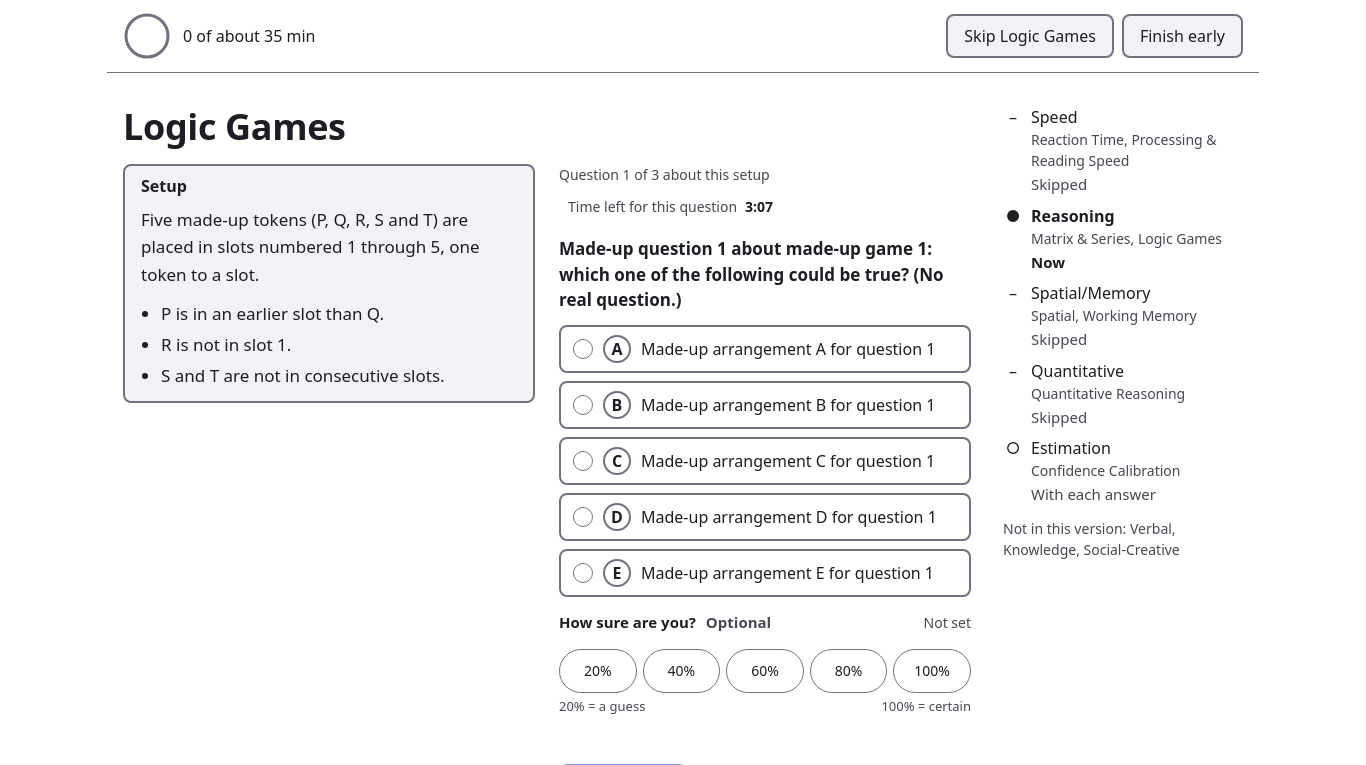
Test case: the remaining families, served › Logic Games: the setup beside its questions as an opening and a list of rules, kept in place across the game, "Question 2 of 3 about this setup", and the option
The width and height of the screenshot is (1366, 765).
expect the heading "Setup" is shown: met, box [141,174,187,198]
expect the text "Question 1 of 3 about this setup" is shown: met, box [559,165,770,184]
What coordinates should you click on to do the following:
click the radio button labelled "B Made-up arrangement B for question 1"
I would click on:
 (583, 405)
Its box is [573,395,593,415].
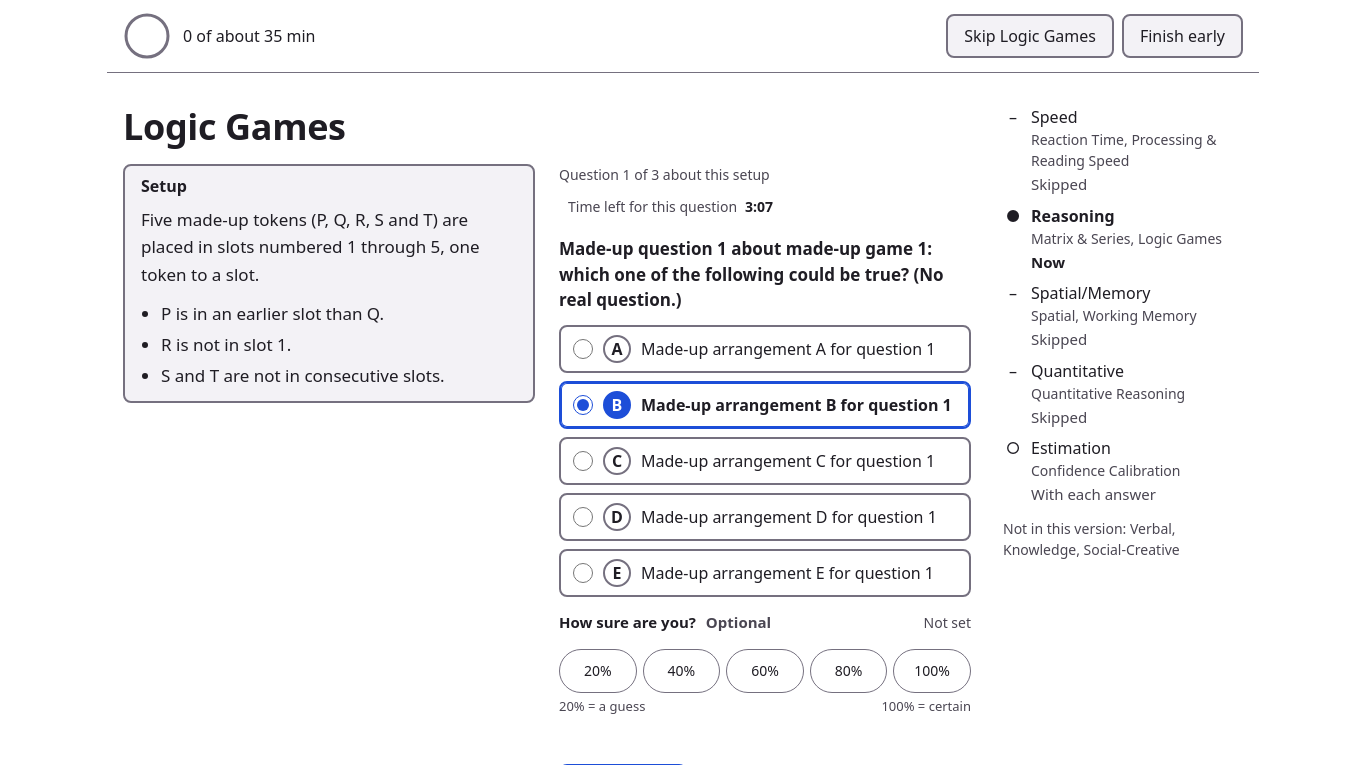
What coordinates should you click on to do the following:
click the radio button labelled "100%"
I would click on:
 (932, 671)
Its box is [893,649,971,693].
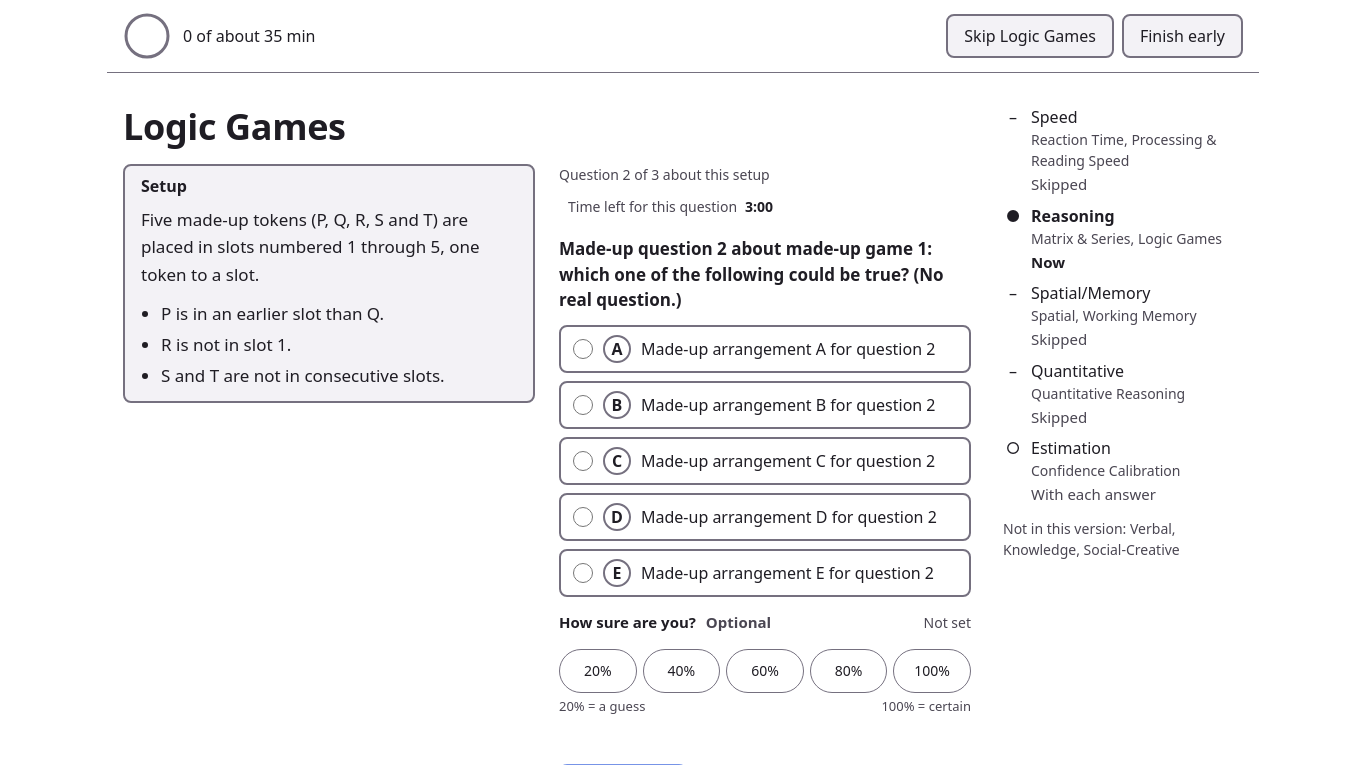
expect the text "Question 2 of 3 about this setup" is shown: met, box [559,165,770,184]
What coordinates should you click on to do the following:
click the radio button labelled "B Made-up arrangement B for question 2"
I would click on:
 (583, 405)
Its box is [573,395,593,415].
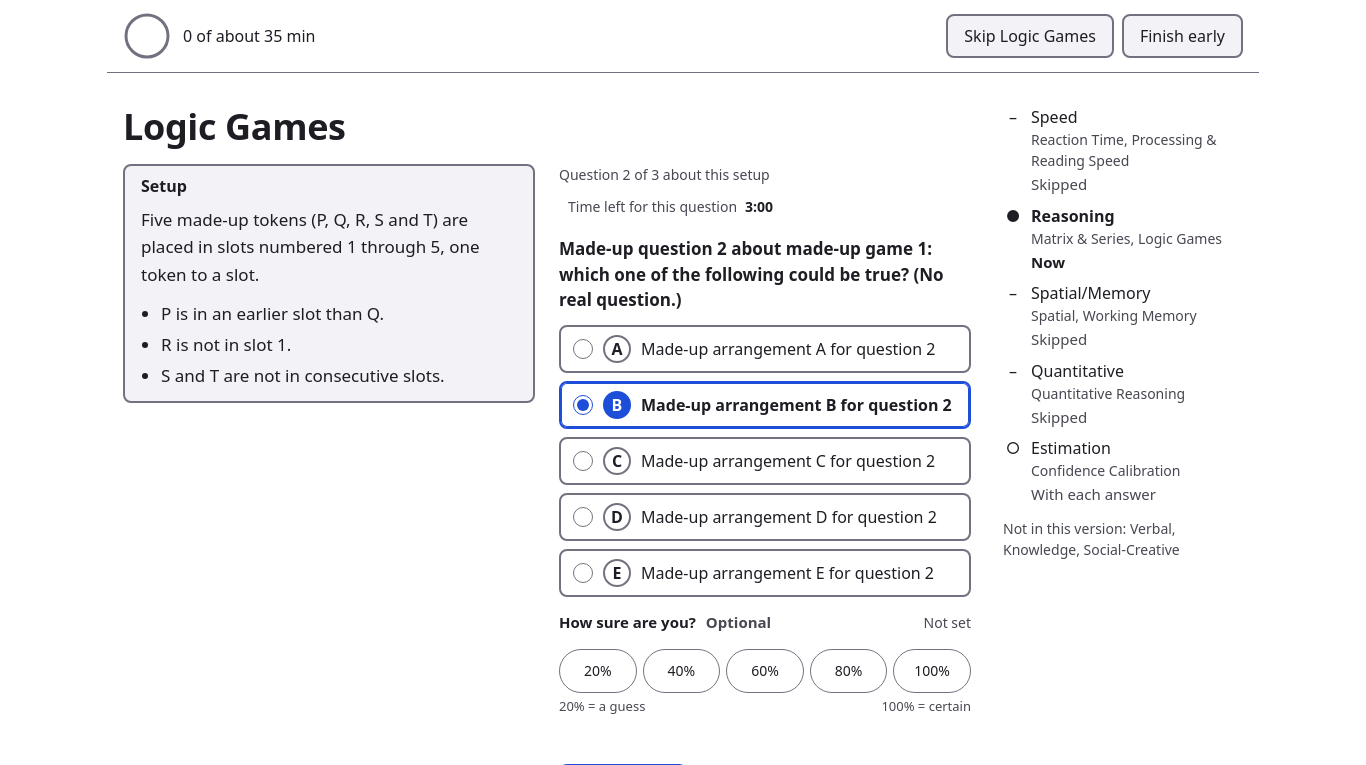
What coordinates should you click on to do the following:
click the radio button labelled "100%"
I would click on:
 (932, 671)
Its box is [893,649,971,693].
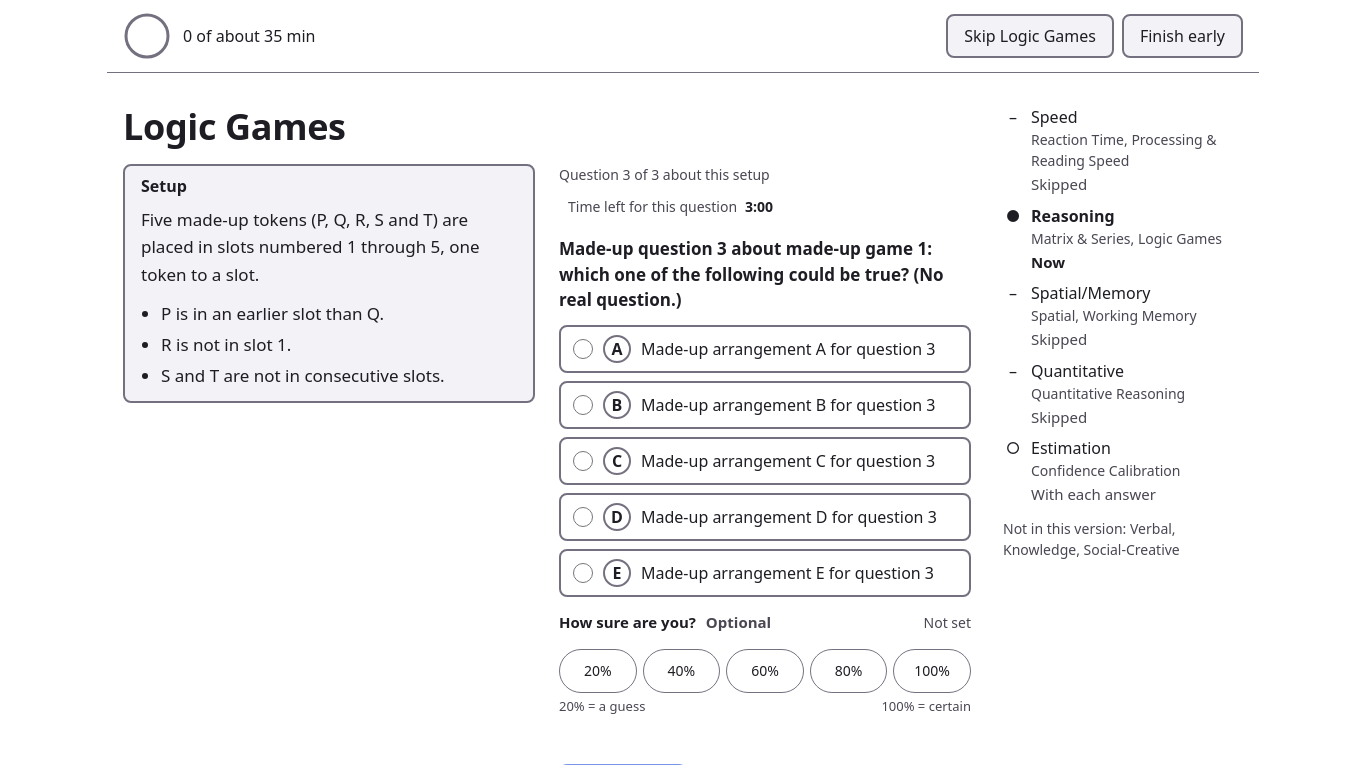
What coordinates should you click on to do the following:
click the radio button labelled "B Made-up arrangement B for question 3"
I would click on:
 (583, 405)
Its box is [573,395,593,415].
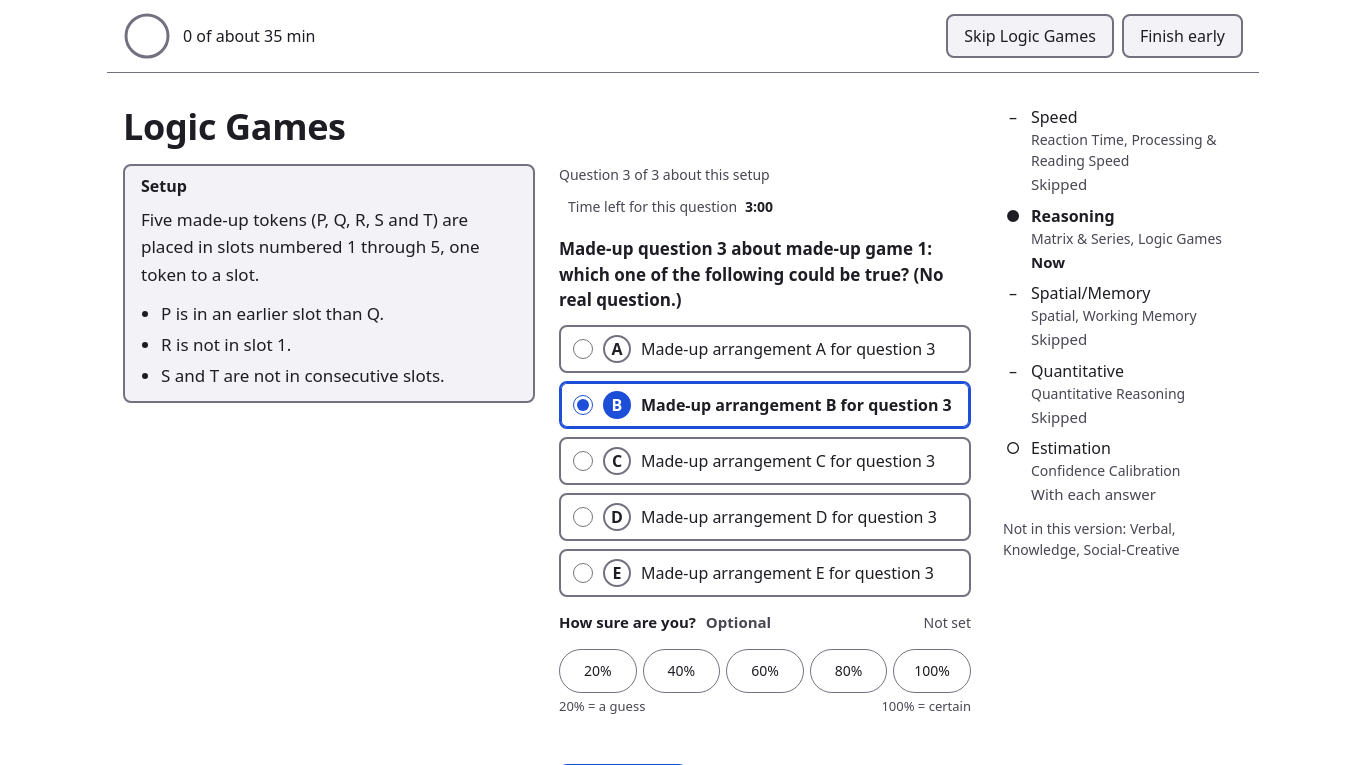
What coordinates should you click on to do the following:
click the radio button labelled "100%"
I would click on:
 (932, 671)
Its box is [893,649,971,693].
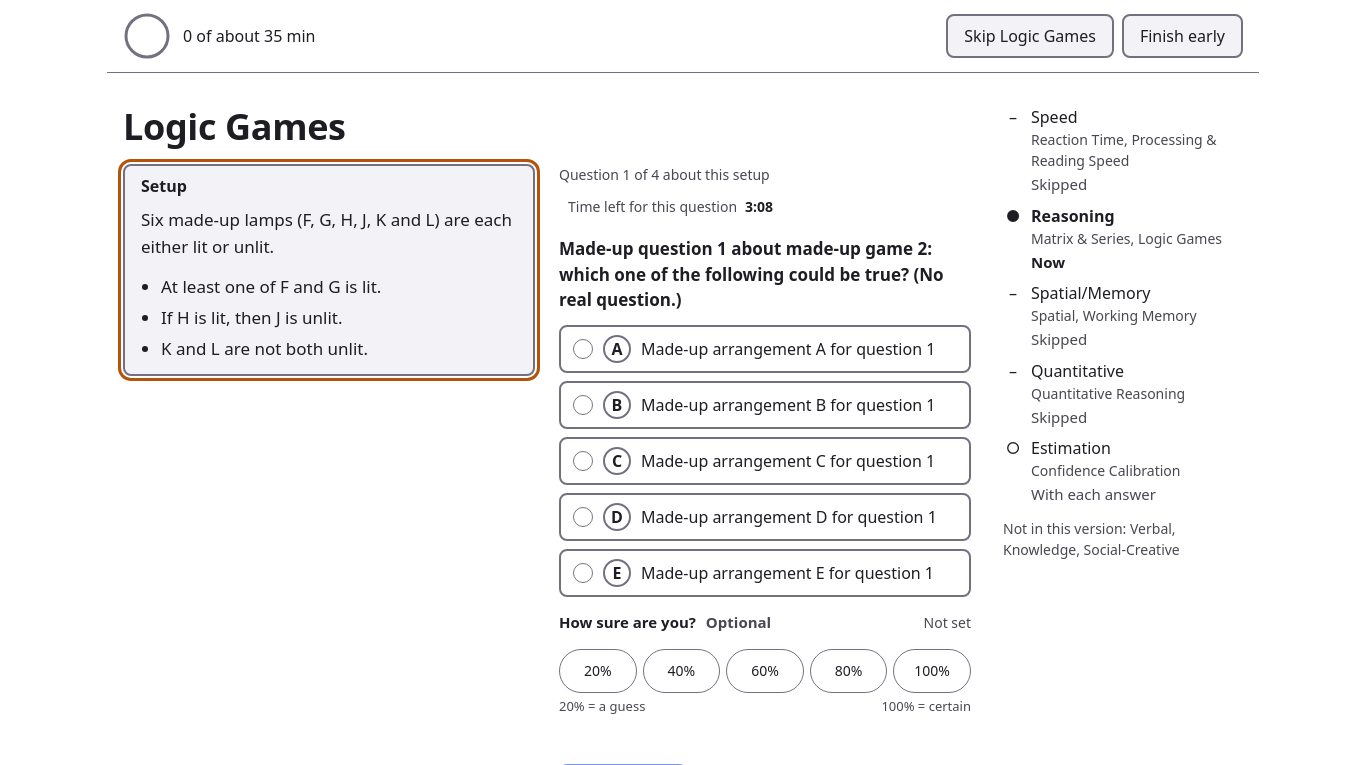
expect the text "Question 1 of 4 about this setup" is shown: met, box [559,165,770,184]
